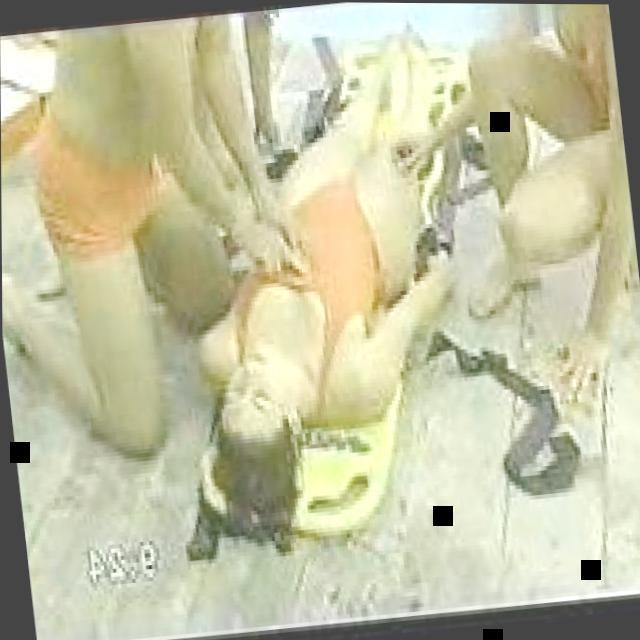Fall-Detected: (142, 21, 504, 533)
